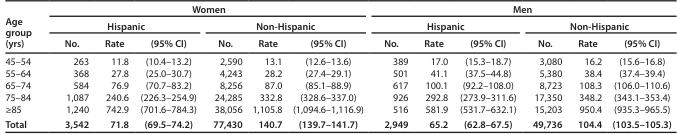table: (4, 4, 670, 129)
table column: (286, 4, 373, 129), (133, 4, 204, 129), (453, 4, 523, 129), (606, 4, 670, 129), (47, 4, 96, 129), (523, 4, 569, 129), (4, 4, 47, 129), (204, 4, 246, 129), (373, 4, 415, 129), (246, 4, 286, 129), (415, 4, 453, 129), (96, 4, 133, 129), (569, 4, 606, 129)
table column header: (4, 4, 670, 52)
table row: (4, 34, 670, 52), (4, 17, 670, 34), (4, 52, 670, 67), (4, 4, 670, 17), (4, 103, 670, 116), (4, 116, 670, 129), (4, 67, 670, 79), (4, 79, 670, 91), (4, 91, 670, 103)
table spanning cell: (47, 4, 373, 17), (373, 4, 670, 17), (204, 17, 373, 34), (47, 17, 204, 34), (373, 17, 523, 34), (523, 17, 670, 34), (4, 4, 47, 52)
